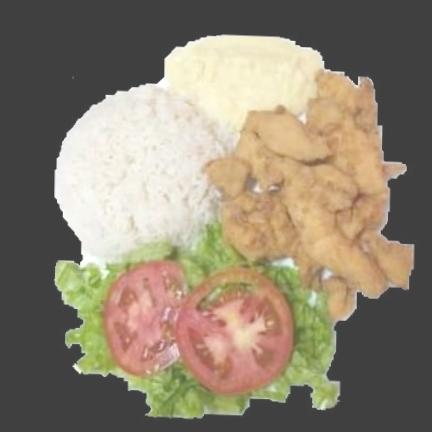chicken: (211, 70, 412, 320)
potato: (164, 36, 323, 131)
rice: (55, 84, 231, 260)
salad: (55, 221, 339, 418)
tomato: (102, 261, 294, 395)
